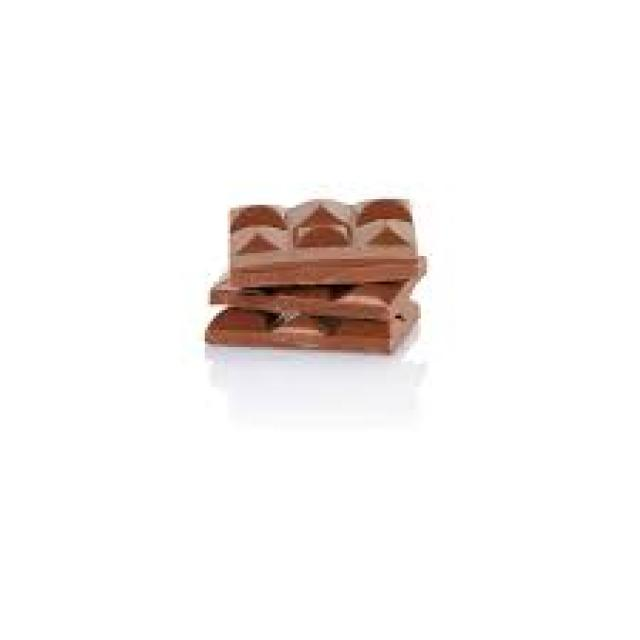Chocolate: (196, 198, 427, 357)
